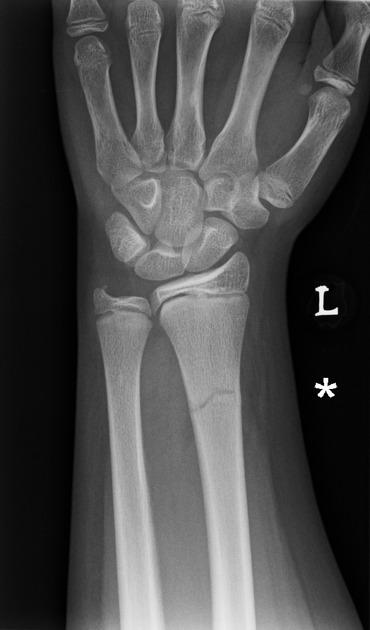fractured: (187, 384, 241, 416)
